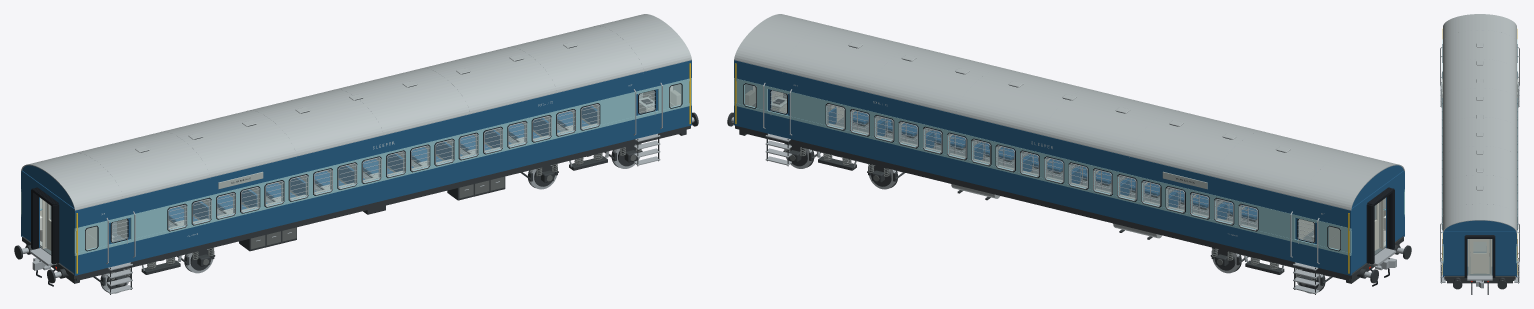
The model's file is ICF_SL.fbx.
3 renders of one model, left to right at view 1: azimuth 30°, elevation 25°; view 2: azimuth 150°, elevation 25°; view 3: azimuth 270°, elevation 25°, orthographic. The views are drawn at different scales.
Parts seen in each view (by area): view 1: Pressed steel roof shell, Lower blue bodyside, Upper blue letterboard, Structural coach floor, Cyan horizontal window band, Longitudinal underframe solebar, Cyan horizontal window band.001, Coach end wall, Window zone pier.002, Window zone pier.020, Coach end wall.001, Curved end roof cap (+1 smaller); view 2: Pressed steel roof shell, Lower blue bodyside.001, Upper blue letterboard.001, Structural coach floor, Cyan horizontal window band.002, Longitudinal underframe solebar.001, Cyan horizontal window band.003, Finished lino floor, Coach end wall.001, Window zone pier.024, Window zone pier.042, Coach end wall (+1 smaller); view 3: Pressed steel roof shell, Coach end wall.002, Coach end wall.003, Curved end roof cap.001, Vestibule lower door.001, End top header.001, Buffer beam, Finished lino floor, Cyan horizontal window band.001, Cyan horizontal window band.003, Saloon end bulkhead.002, Structural coach floor (+10 smaller).
Part boxes in pixels (<box>): Pressed steel roof shell: <box>21,14,691,210</box>; Lower blue bodyside: <box>74,105,691,275</box>; Upper blue letterboard: <box>74,60,691,228</box>; Structural coach floor: <box>22,125,690,278</box>; Cyan horizontal window band: <box>74,103,691,255</box>; Longitudinal underframe solebar: <box>75,129,686,280</box>; Cyan horizontal window band.001: <box>74,78,691,231</box>; Coach end wall: <box>57,198,74,273</box>; Window zone pier.002: <box>130,208,167,239</box>; Window zone pier.020: <box>598,94,635,124</box>; Coach end wall.001: <box>22,172,39,247</box>; Curved end roof cap: <box>22,165,73,207</box>; Pressed steel roof shell: <box>734,14,1404,210</box>; Lower blue bodyside.001: <box>734,105,1351,275</box>; Upper blue letterboard.001: <box>734,60,1351,230</box>; Structural coach floor: <box>735,125,1403,278</box>; Cyan horizontal window band.002: <box>734,103,1351,255</box>; Longitudinal underframe solebar.001: <box>739,129,1350,280</box>; Cyan horizontal window band.003: <box>734,78,1351,231</box>; Finished lino floor: <box>828,105,1385,254</box>; Coach end wall.001: <box>1351,199,1368,273</box>; Window zone pier.024: <box>1258,208,1295,239</box>; Window zone pier.042: <box>790,94,827,124</box>; Coach end wall: <box>1386,172,1403,247</box>; Pressed steel roof shell: <box>1443,14,1516,233</box>; Coach end wall.002: <box>1444,232,1467,275</box>; Coach end wall.003: <box>1492,232,1515,275</box>; Curved end roof cap.001: <box>1444,220,1515,231</box>; Vestibule lower door.001: <box>1471,253,1488,273</box>; End top header.001: <box>1444,231,1515,236</box>; Buffer beam: <box>1447,279,1512,283</box>; Finished lino floor: <box>1467,239,1492,275</box>; Cyan horizontal window band.001: <box>1442,39,1443,246</box>; Cyan horizontal window band.003: <box>1516,39,1517,246</box>; Saloon end bulkhead.002: <box>1470,239,1486,251</box>; Structural coach floor: <box>1444,276,1515,279</box>.
Size of the model in its own units: 350 by 2246 by 408.
